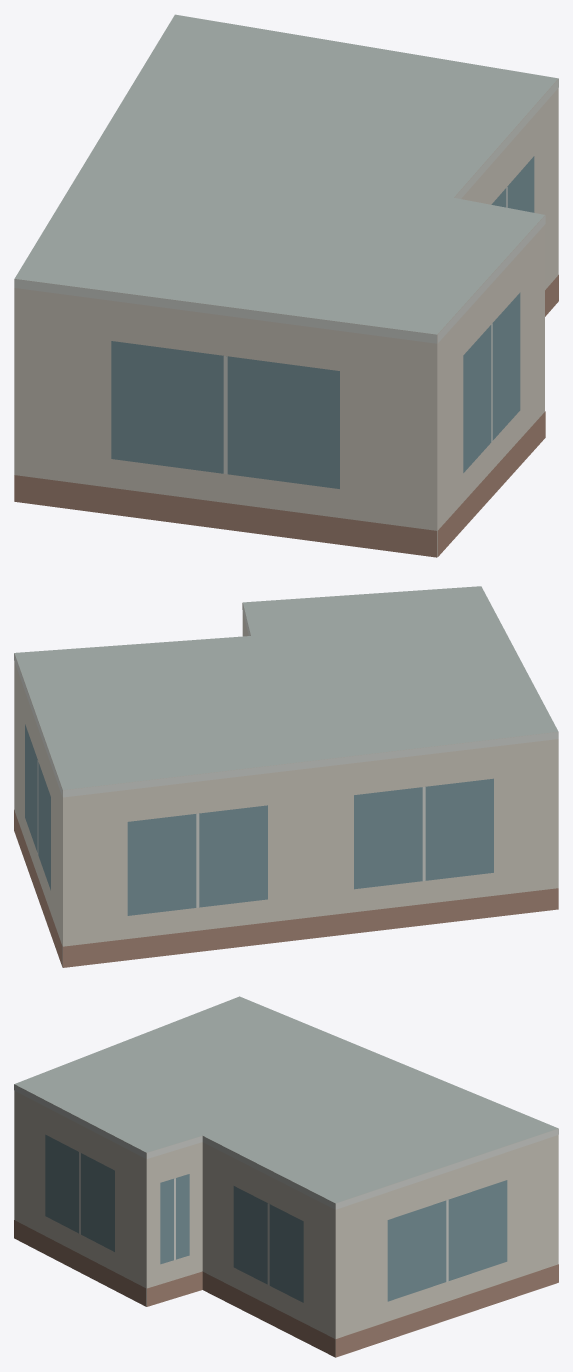
The model's file is survey-upis-32632523.glb.
3 views of the same model, one above another, from view 1: azimuth 30°, elevation 25°; view 2: azimuth 150°, elevation 25°; view 3: azimuth 270°, elevation 25° (orthographic). The views are drawn at different scales.
Visible parts, largest first — view 1: survey-upis-32632523.tmp; view 2: survey-upis-32632523.tmp; view 3: survey-upis-32632523.tmp.
Part boxes in pixels (x1=…): survey-upis-32632523.tmp: x1=14, y1=14, x2=558, y2=557; survey-upis-32632523.tmp: x1=14, y1=586, x2=558, y2=967; survey-upis-32632523.tmp: x1=14, y1=996, x2=558, y2=1357.
Bounding box in the file's own units: 8.8 × 3.05 × 9.78.
